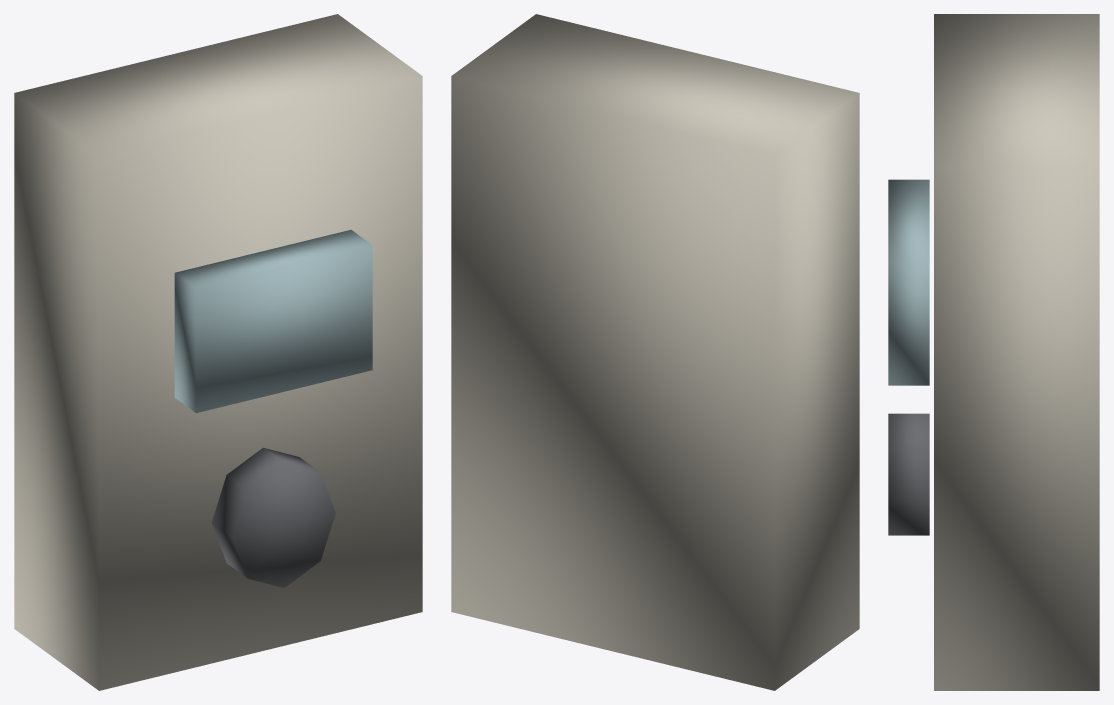
The model's file is wall_thermostat__tall.glb.
The picture shows the model from 3 angles, left to right: view 1: azimuth 30°, elevation 25°; view 2: azimuth 150°, elevation 25°; view 3: azimuth 270°, elevation 25°; orthographic projection. The views are drawn at different scales.
Parts seen in each view (by area): view 1: world; view 2: world; view 3: world.
Boxes of the visible parts, bbox=[...] form: world: bbox=[14, 14, 422, 690]; world: bbox=[451, 14, 859, 690]; world: bbox=[888, 14, 1099, 690].
Bounding box in the file's own units: 0.22 × 0.348 × 0.1275.
